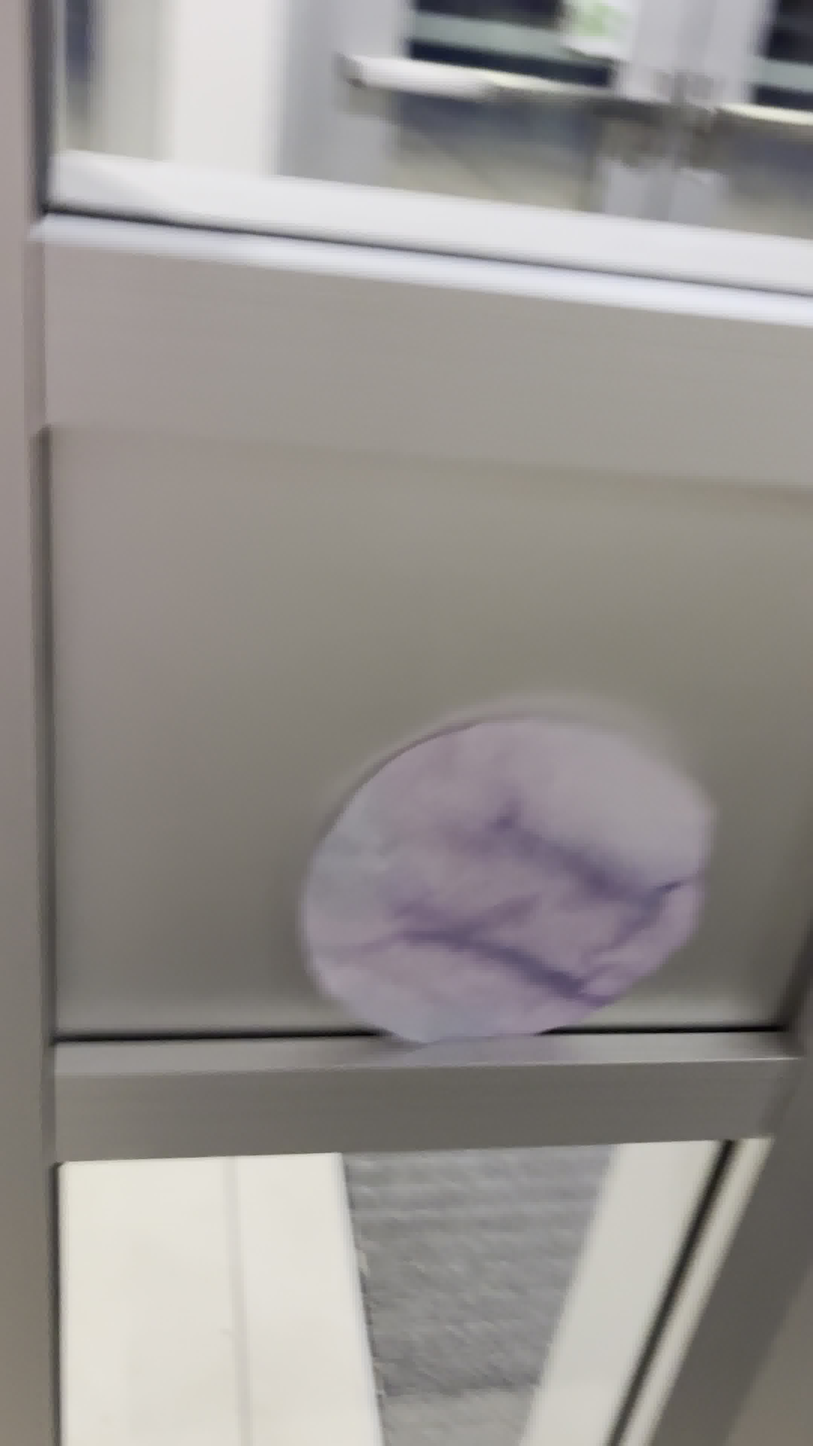Target: (291, 695, 731, 1059)
